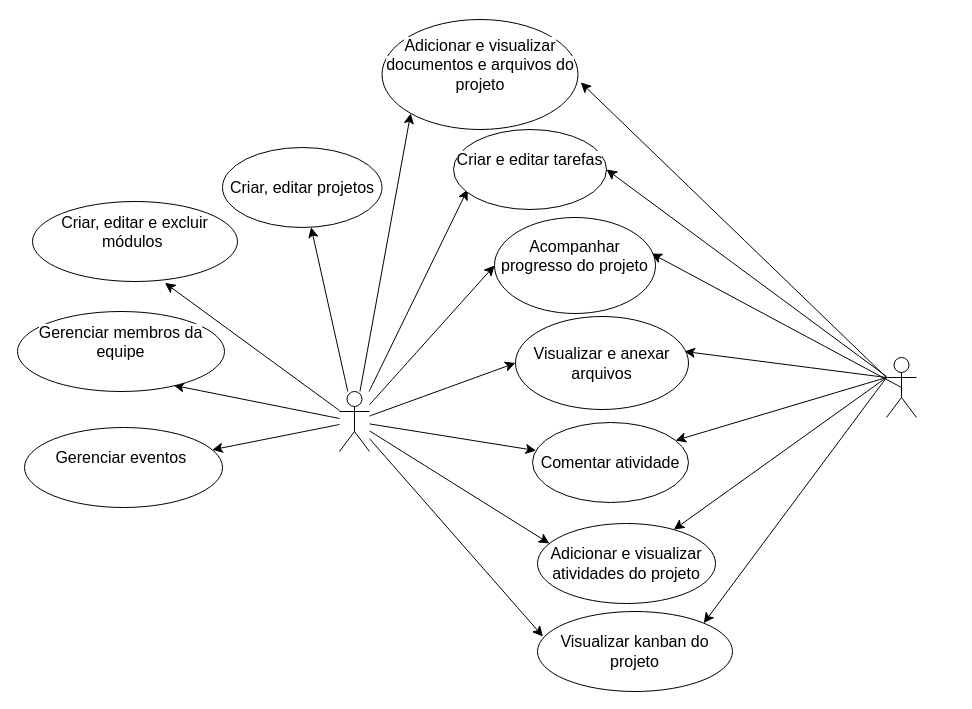
Some shapes in this 972 by 709 pixel diagram are drawn without their labels. The centre of each missing label's shape, as x and y in pixels:
"Desenvolvedor" goes at [901,387].
"Gerente (Administrador)" goes at [354,421].
